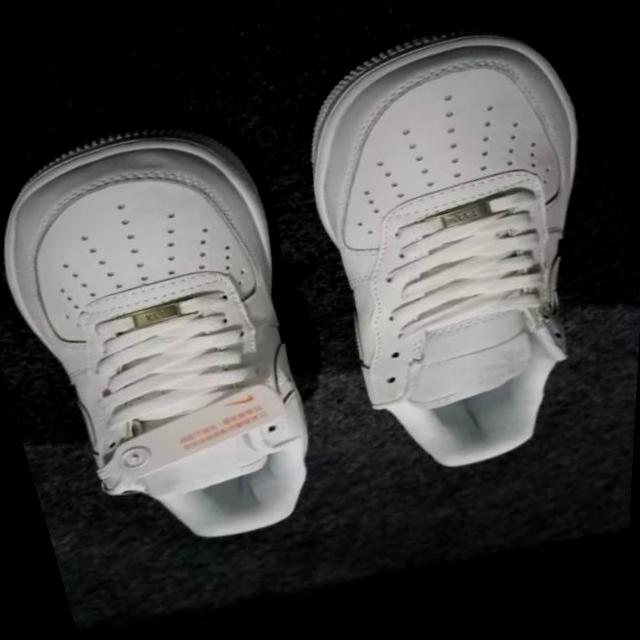nike_fake_airforce: (247, 0, 640, 503), (0, 79, 373, 590)
